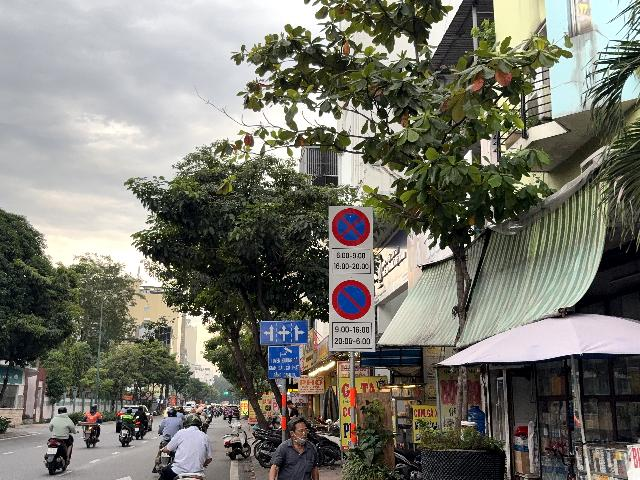cam-do-xe: (332, 280, 371, 320)
cam-dung-va-do-xe: (332, 208, 371, 247)
